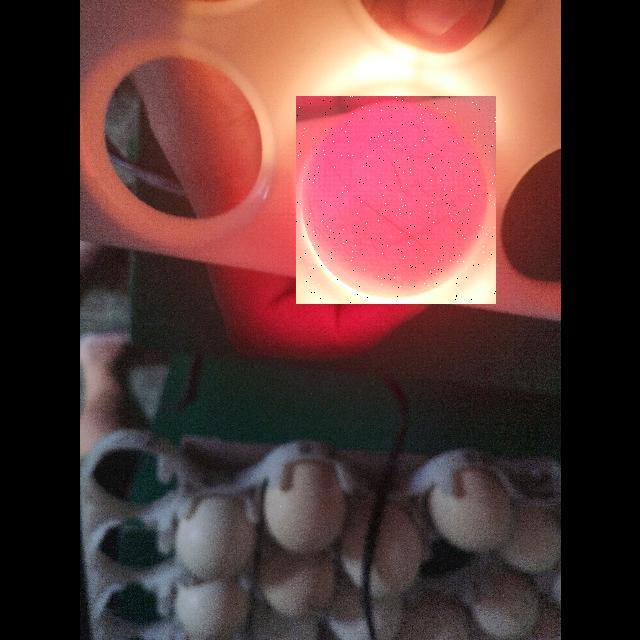Infertile: (296, 96, 496, 304)
